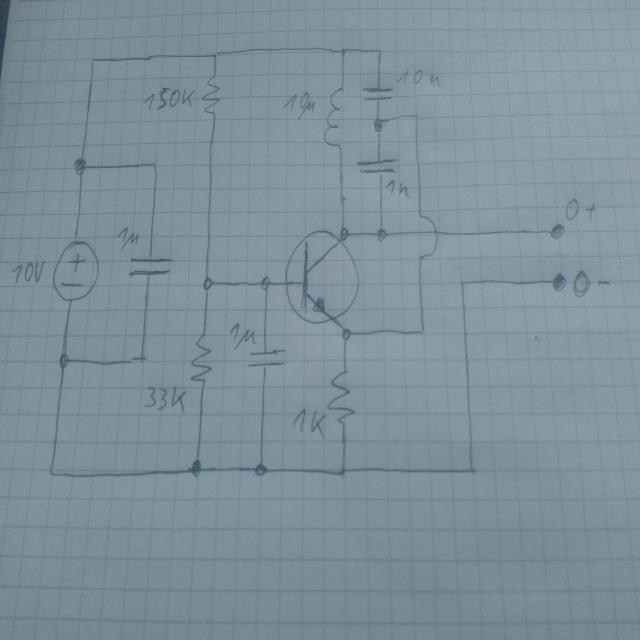capacitor: (126, 256, 175, 278), (355, 156, 402, 178), (246, 347, 287, 370), (360, 85, 396, 104)
crossover: (413, 208, 439, 264)
inductor: (322, 85, 347, 148)
junction: (187, 455, 208, 481), (250, 459, 270, 481), (57, 349, 72, 375), (73, 155, 89, 178), (463, 460, 481, 479), (414, 322, 430, 342), (371, 115, 387, 134), (374, 224, 390, 243), (336, 462, 351, 482), (456, 275, 472, 293), (258, 274, 273, 293), (339, 325, 353, 345), (200, 274, 214, 294), (136, 348, 150, 368), (338, 225, 352, 244), (148, 156, 161, 176), (46, 461, 59, 480), (207, 48, 222, 64), (336, 44, 351, 59), (373, 44, 386, 61), (88, 54, 99, 70), (410, 110, 421, 125)
resistor: (324, 364, 358, 430), (189, 328, 213, 388), (202, 72, 222, 121)
source: (50, 240, 100, 303)
terminal: (550, 270, 568, 294), (549, 221, 567, 243)
text: (142, 85, 196, 112), (144, 384, 188, 416), (572, 269, 613, 300), (291, 406, 328, 439), (395, 69, 444, 90), (281, 92, 317, 119), (564, 197, 597, 226), (228, 322, 258, 350), (10, 259, 45, 283), (115, 226, 139, 253), (384, 178, 411, 199)
transistor: (283, 227, 362, 327)
